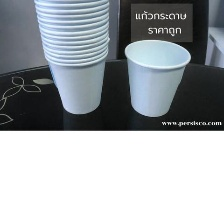paper_cup: (29, 0, 114, 120), (119, 34, 193, 120)
